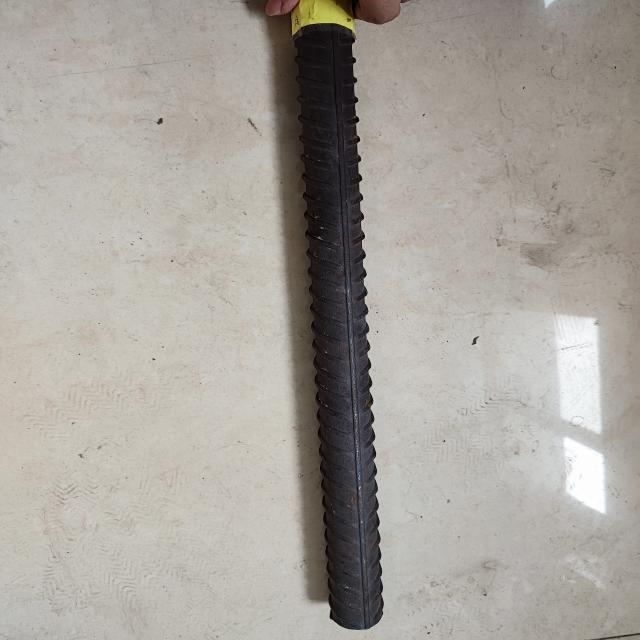ribbed bar: (282, 9, 389, 632)
